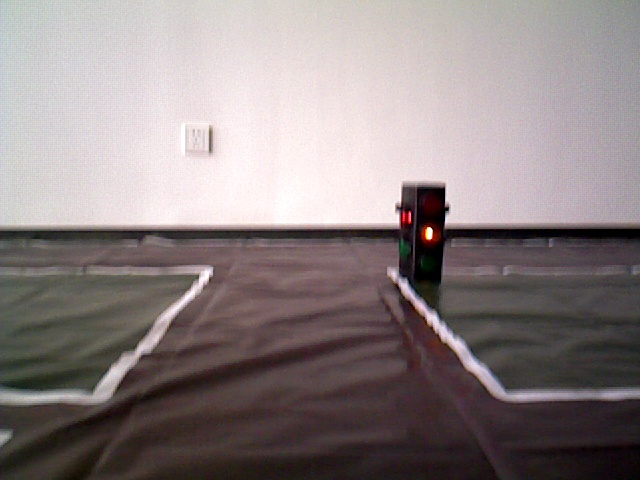yellow: (399, 181, 444, 278)
